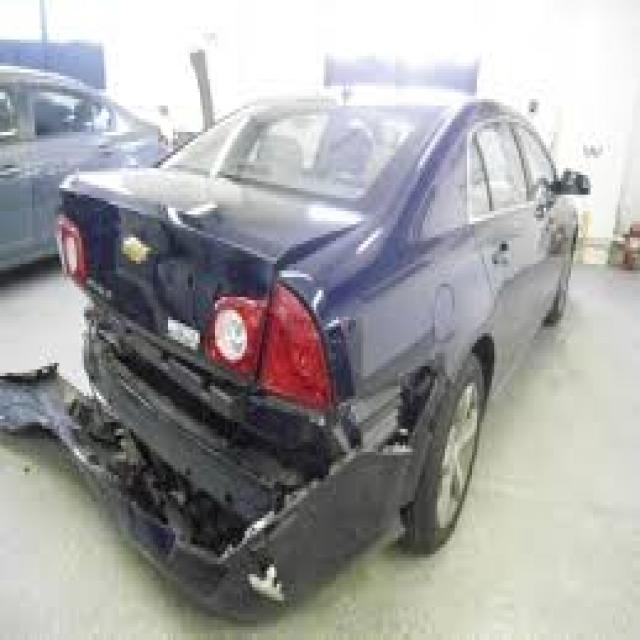damaged-trunk: (49, 162, 316, 398)
